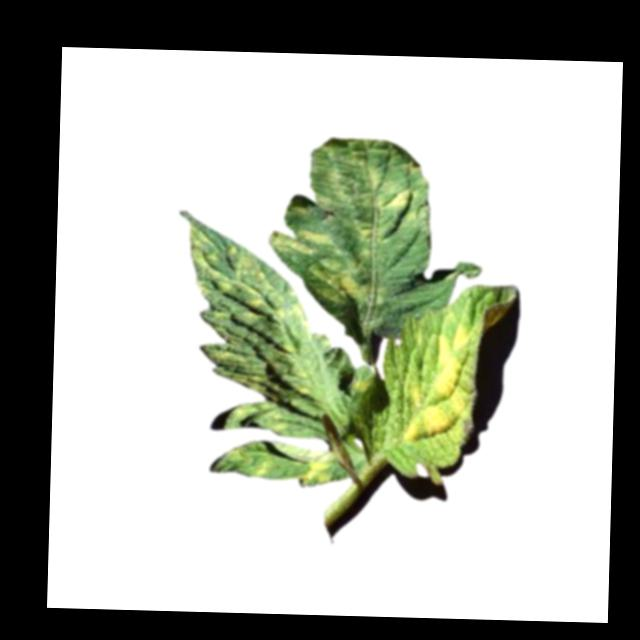Leaf_Mold: (182, 222, 327, 440), (400, 317, 473, 442), (269, 227, 370, 300), (369, 162, 420, 218), (304, 453, 334, 481)
